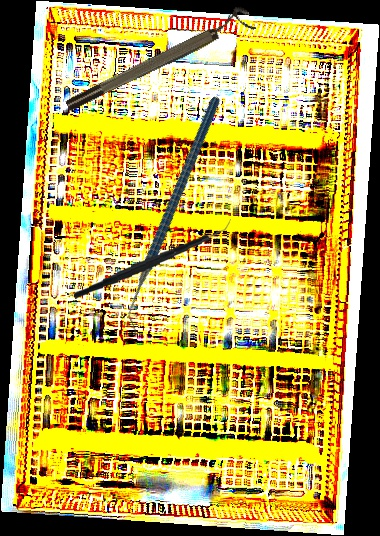Chopper: (60, 95, 289, 336), (69, 216, 236, 300)
Fixation Ring: (59, 3, 257, 115)
